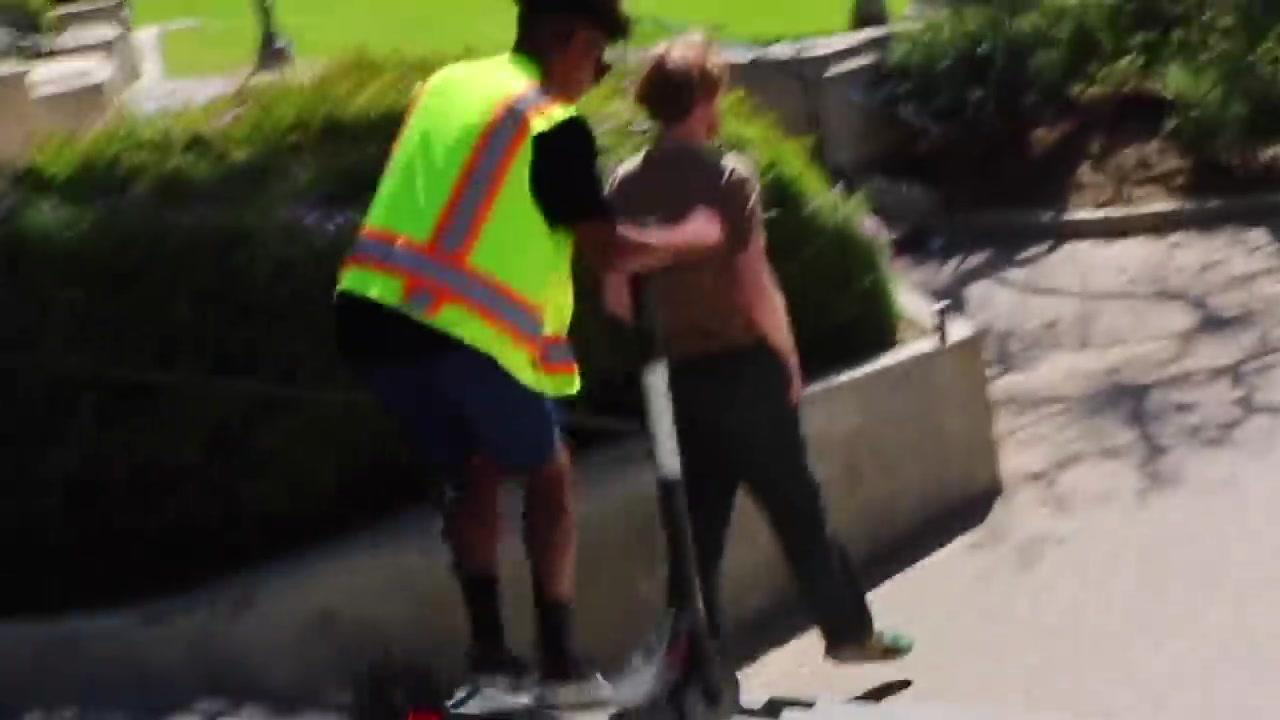vest: (327, 47, 584, 400)
